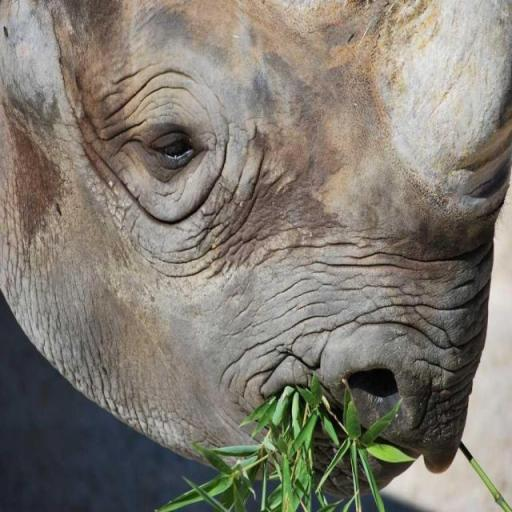Rhino: (0, 0, 511, 501)
